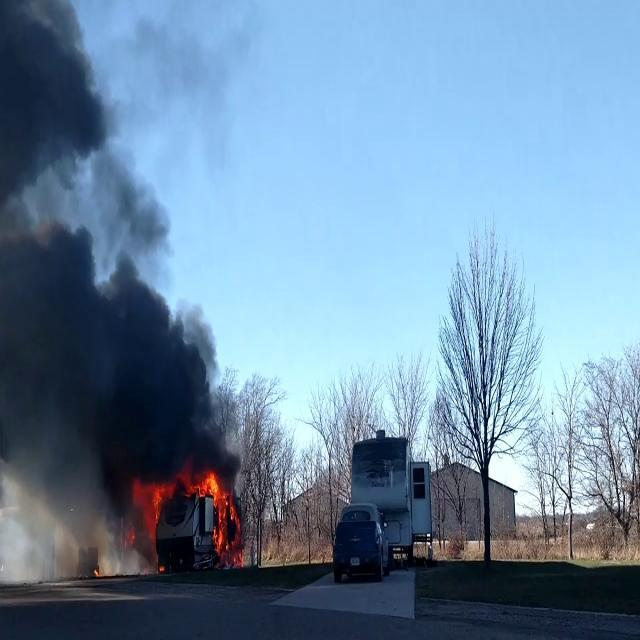Fire: (194, 464, 239, 556), (136, 477, 176, 560)
Smoke: (0, 1, 234, 538)
